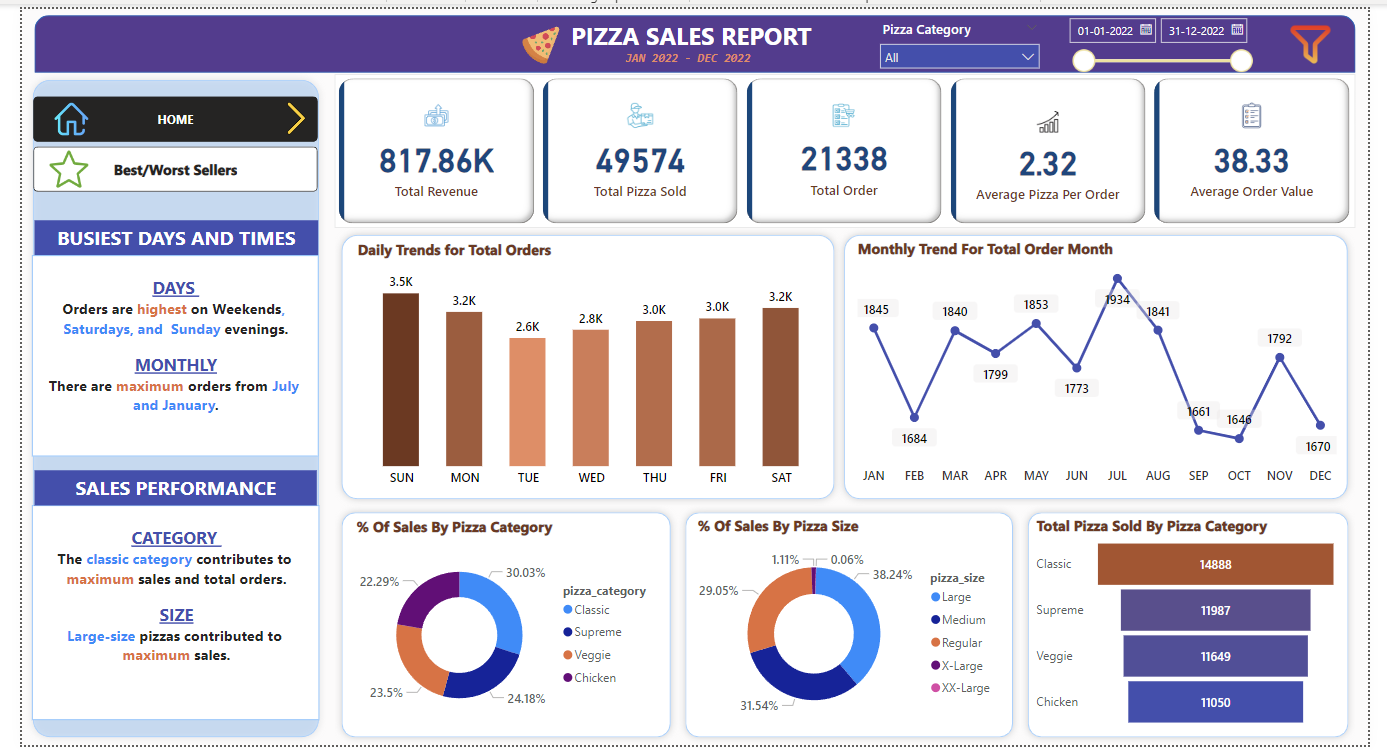

The dashboard page shown, as its layout file describes it:
{"tool":"powerbi","page":{"name":"HOME","canvas":[1500,820],"ordinal":0},"visuals":[{"type":"shape","box":[4.2,71,334.1,747.6],"z":0},{"type":"cardVisual","fields":{"Data":["pizza_sales.Total_Revenue","pizza_sales.Total_Pizza_Sold","pizza_sales.Total_Order","pizza_sales.Average_Pizza_Per_Order","pizza_sales.Average_Order_Value"]},"box":[348,72.4,1137.4,171.2],"z":1000},{"type":"shape","box":[13.9,7,1471.5,64],"z":2000},{"type":"textbox","box":[590,6.7,310,65],"z":3000},{"type":"textbox","box":[666.7,40,168.3,30],"z":4000},{"type":"image","box":[535,13.3,86.7,53.3],"z":5000},{"type":"shape","box":[348.3,243.3,565,310],"z":6000},{"type":"columnChart","title":"Daily Trends for Total Orders","fields":{"Y":["pizza_sales.Total Order"],"Category":["pizza_sales.Order Day"]},"box":[368.3,256.7,531.7,285],"z":7000},{"type":"shape","box":[908.3,243.3,576.7,310],"z":8000},{"type":"shape","box":[348.7,552.7,382.4,266.7],"z":9000},{"type":"lineChart","title":"Monthly Trend For Total Order Month","fields":{"Category":["pizza_sales.Order Month"],"Y":["pizza_sales.Total Order"]},"box":[925.5,255.5,543.1,284.4],"z":10000},{"type":"shape","box":[731,552.7,380.8,266.7],"z":11000},{"type":"shape","box":[1111.8,552.7,372.8,266.7],"z":12000},{"type":"donutChart","title":" % Of Sales By Pizza Category","fields":{"Category":["pizza_sales.pizza_category"],"Y":["pizza_sales.Total Pizza Sold"]},"box":[367.9,565.6,348.7,242.6],"z":13000},{"type":"donutChart","title":" % Of Sales By Pizza Size","fields":{"Y":["pizza_sales.Total Pizza Sold"],"Category":["pizza_sales.pizza_size"]},"box":[747.1,563.9,348.7,242.6],"z":14000},{"type":"funnel","title":"Total Pizza Sold By Pizza Category","fields":{"Category":["pizza_sales.pizza_category"],"Y":["pizza_sales.Total Pizza Sold"]},"box":[1124.7,563.9,345.4,241],"z":15000},{"type":"textbox","box":[13.9,235.3,316,39],"z":16000},{"type":"textbox","box":[11.1,274.3,318.8,224.1],"z":17000},{"type":"textbox","box":[11.1,552.7,320.2,239.5],"z":18000},{"type":"textbox","box":[13.9,513.7,314.6,39],"z":19000},{"type":"slicer","fields":{"Values":["pizza_sales.pizza_category"]},"box":[944.7,6.4,197.6,65.9],"z":20000},{"type":"slicer","fields":{"Values":["pizza_sales.order_date"]},"box":[1153.6,0,224.9,72.3],"z":21000},{"type":"pageNavigator","box":[12.5,97.5,317.4,50.1],"z":22000},{"type":"pageNavigator","box":[12.5,153.1,317.4,50.1],"z":23000},{"type":"image","box":[30.6,98.8,48.7,47.3],"z":24000},{"type":"image","box":[282.6,98.8,45.9,45.9],"z":25000},{"type":"image","box":[25.1,151.7,54.3,52.9],"z":26000},{"type":"image","box":[1399.2,0,71,78],"z":27000}]}

Visuals, with their boxes in screenshot pixels (x1, y1, x2, y2), scaled from the page's 1500x820 canvas onto the 1387x750 screenshot:
shape: region(4, 65, 313, 749)
cardVisual - pizza_sales.Total_Revenue x pizza_sales.Total_Pizza_Sold: region(322, 66, 1373, 223)
shape: region(13, 6, 1373, 65)
textbox: region(546, 6, 832, 66)
textbox: region(616, 37, 772, 64)
image: region(495, 12, 575, 61)
shape: region(322, 223, 844, 506)
"Daily Trends for Total Orders" columnChart: region(341, 235, 832, 495)
shape: region(840, 223, 1373, 506)
shape: region(322, 506, 676, 749)
"Monthly Trend For Total Order Month" lineChart: region(856, 234, 1358, 494)
shape: region(676, 506, 1028, 749)
shape: region(1028, 506, 1373, 749)
" % Of Sales By Pizza Category" donutChart: region(340, 517, 663, 739)
" % Of Sales By Pizza Size" donutChart: region(691, 516, 1013, 738)
"Total Pizza Sold By Pizza Category" funnel: region(1040, 516, 1359, 736)
textbox: region(13, 215, 305, 251)
textbox: region(10, 251, 305, 456)
textbox: region(10, 506, 306, 725)
textbox: region(13, 470, 304, 506)
slicer - pizza_sales.pizza_category: region(874, 6, 1056, 66)
slicer - pizza_sales.order_date: region(1067, 0, 1275, 66)
pageNavigator: region(12, 89, 305, 135)
pageNavigator: region(12, 140, 305, 186)
image: region(28, 90, 73, 134)
image: region(261, 90, 304, 132)
image: region(23, 139, 73, 187)
image: region(1294, 0, 1359, 71)
